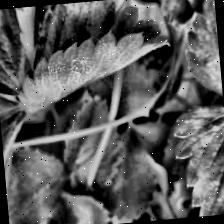Powdery Mildew Leaf: (11, 0, 177, 116)
